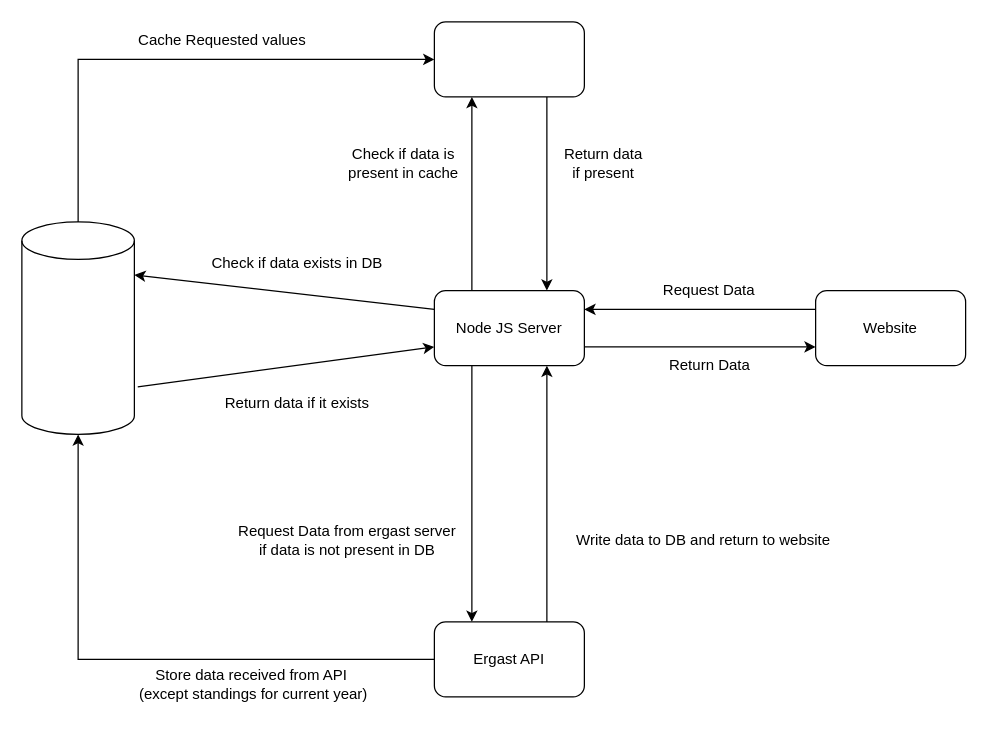
This 988x731 diagram has some shape labels left out. Each missing label, with the centre of its shape:
Mongo DB: pixel 77 327
Redis Cache: pixel 508 59
